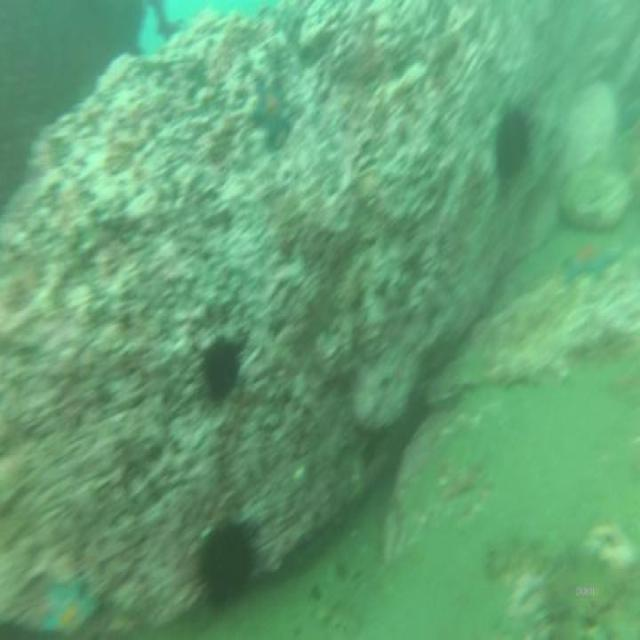echinus: (197, 509, 254, 615), (494, 104, 537, 190), (202, 337, 242, 406)
starfish: (44, 577, 102, 640), (564, 232, 628, 288), (248, 73, 292, 150)
